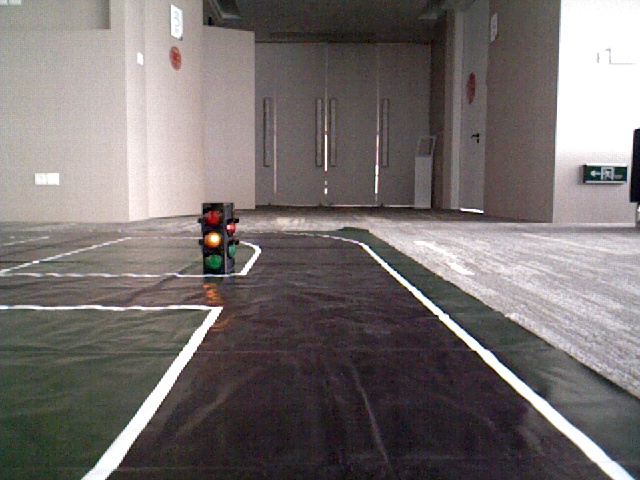yellow: (201, 206, 226, 272)
